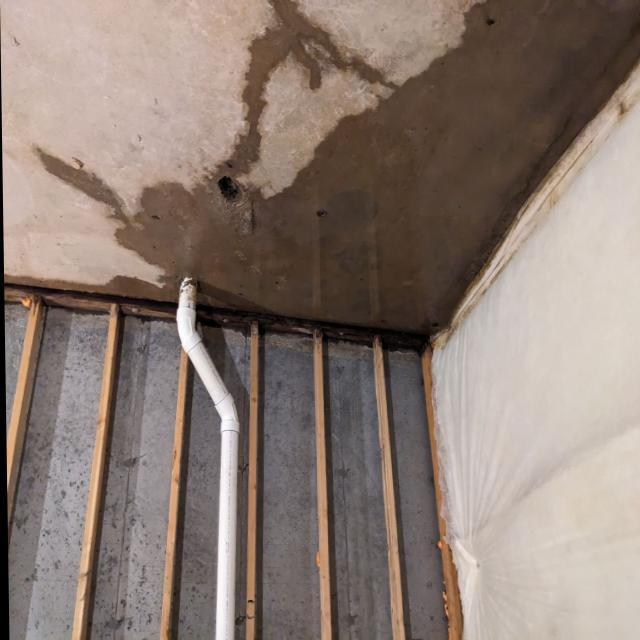water accumulation: (33, 3, 640, 342)
